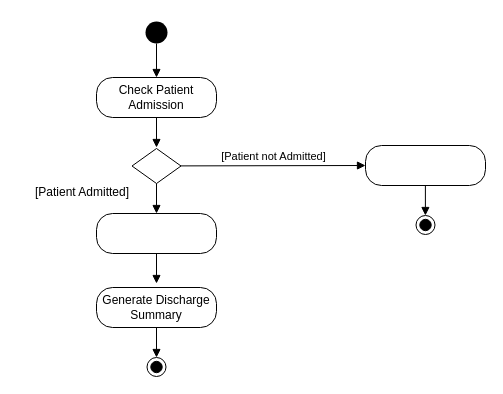
The diagram is 503 pixels wide and 394 high, and some of its shapes have lost their labels. The shapes that lost their labels are listed below. From the top down, each one's centre as x and y in pixels, then its label:
At (x=425, y=165): "Patient Not Admitted".
At (x=156, y=233): "Procced to Discharge".
